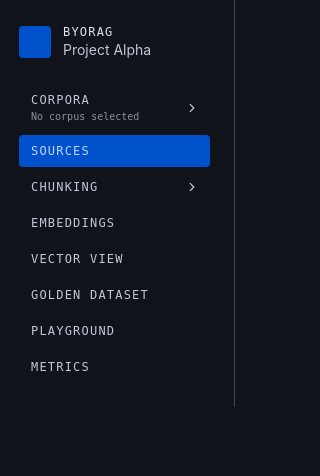
Test: SidebarNav › reveals "Fixed Size Chunking" when Chunking is expanded
Check: the text "No corpus selected" is shown, box top-left (31, 110), bottom-right (139, 123)
Check: the text "FIXED SIZE CHUNKING" is not shown
Click the link "CHUNKING": (65, 187) top-left (31, 180), bottom-right (198, 194)
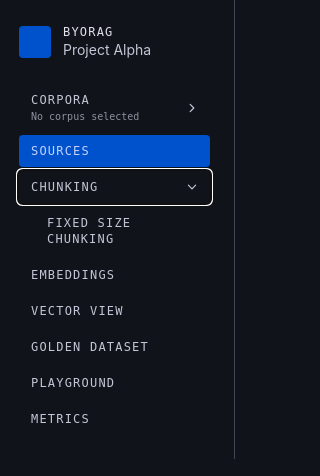
Check: the link "FIXED SIZE CHUNKING" is shown, box top-left (47, 216), bottom-right (131, 246)
